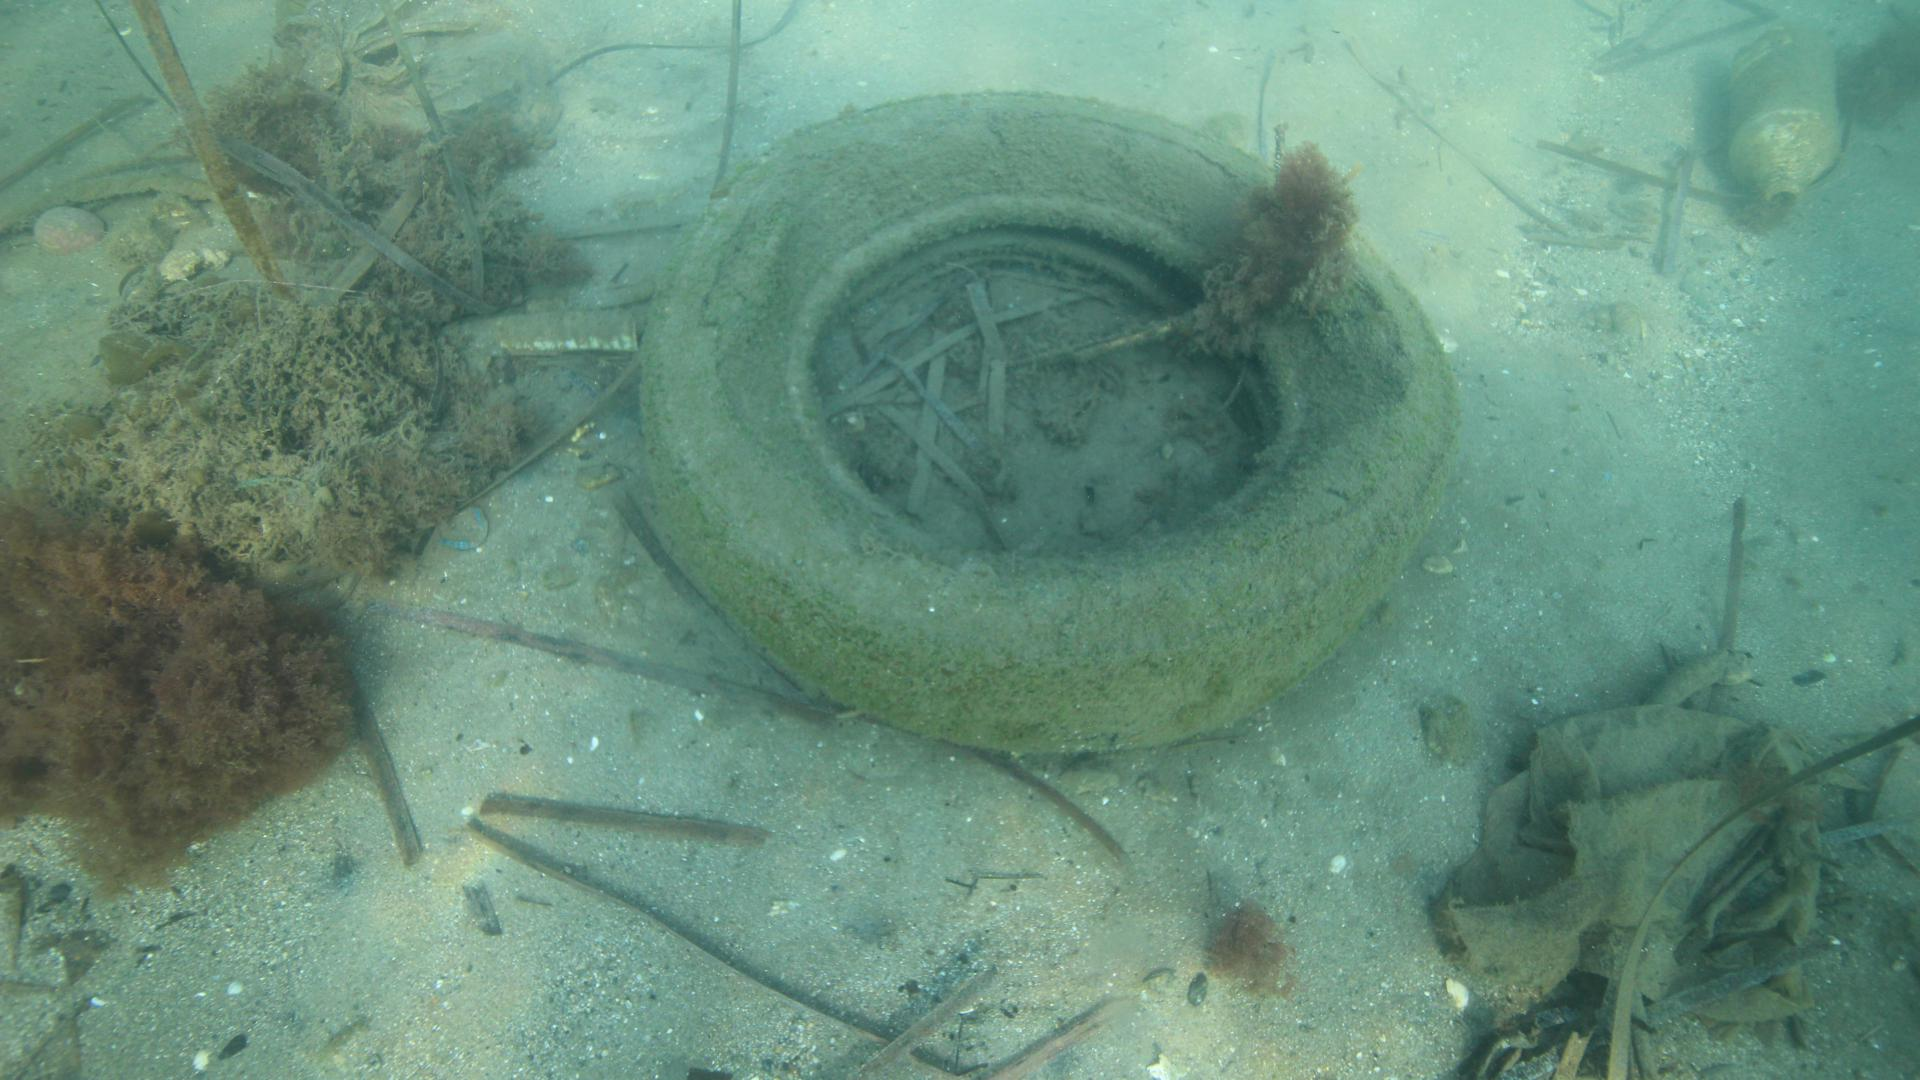tire: (640, 88, 1461, 756)
